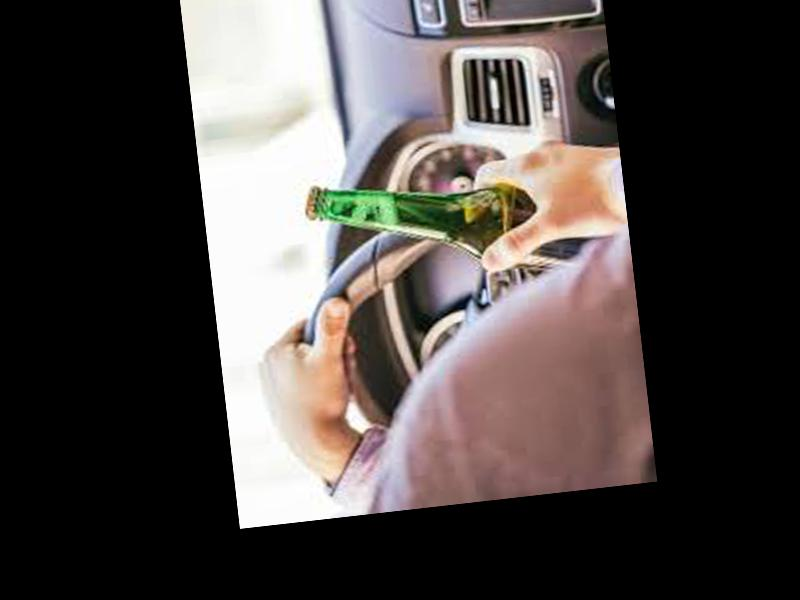Beer: (300, 154, 600, 295)
